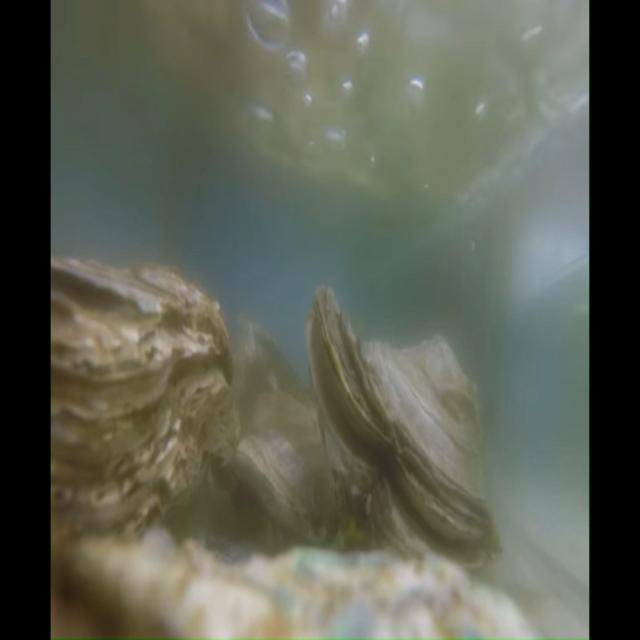Oyster-Closed: (52, 527, 532, 638), (51, 258, 239, 538), (232, 318, 310, 427)
Oyster-Open: (306, 289, 500, 562), (232, 431, 311, 533)
